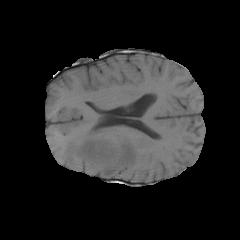glioma: (62, 127, 138, 177)
